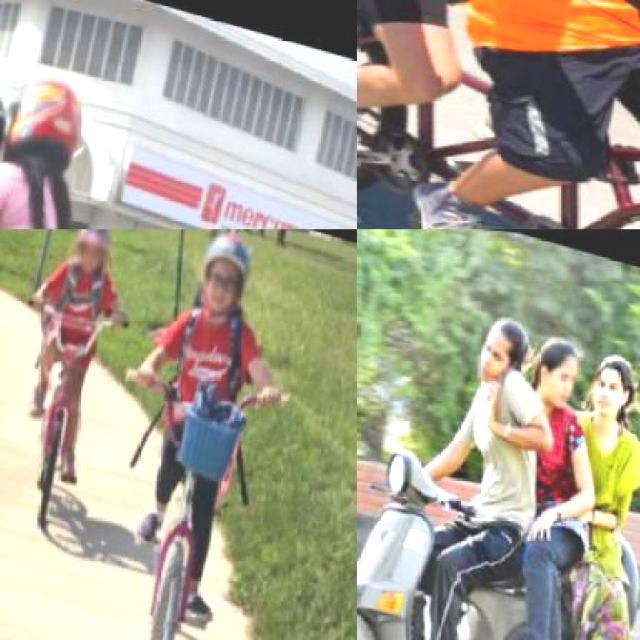With Helmet: (0, 58, 91, 178), (186, 229, 260, 317), (65, 229, 120, 280)
Without Helmet: (524, 320, 591, 418), (472, 294, 532, 386), (583, 332, 639, 426)
